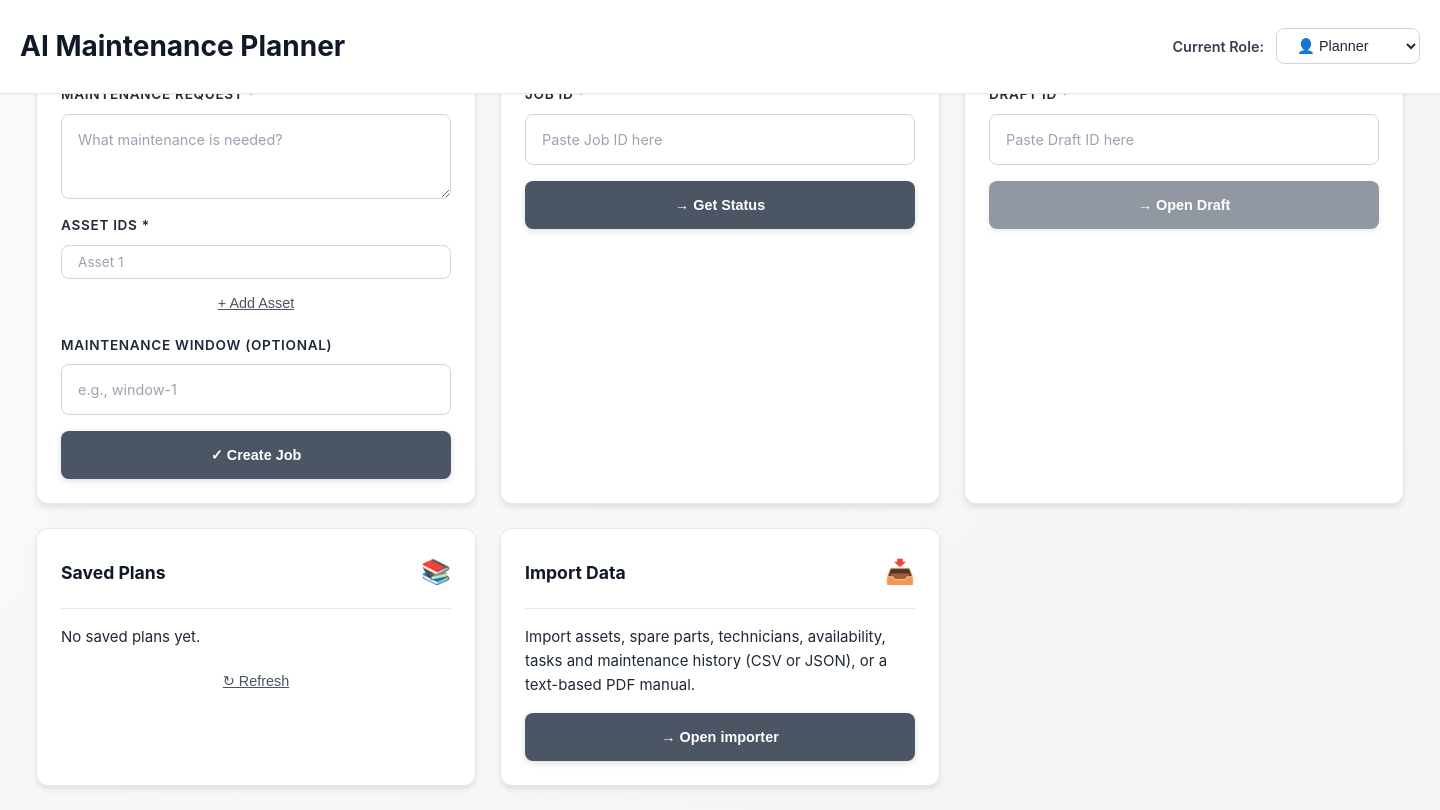
Scenario: App saved plans and actor role › shows when there are no saved plans and reports a failed load
(page scrolled)
Expected: the text "No saved plans yet." is shown, [61, 627, 200, 646]
Click the button "↻ Refresh": (256, 681) [61, 665, 451, 697]
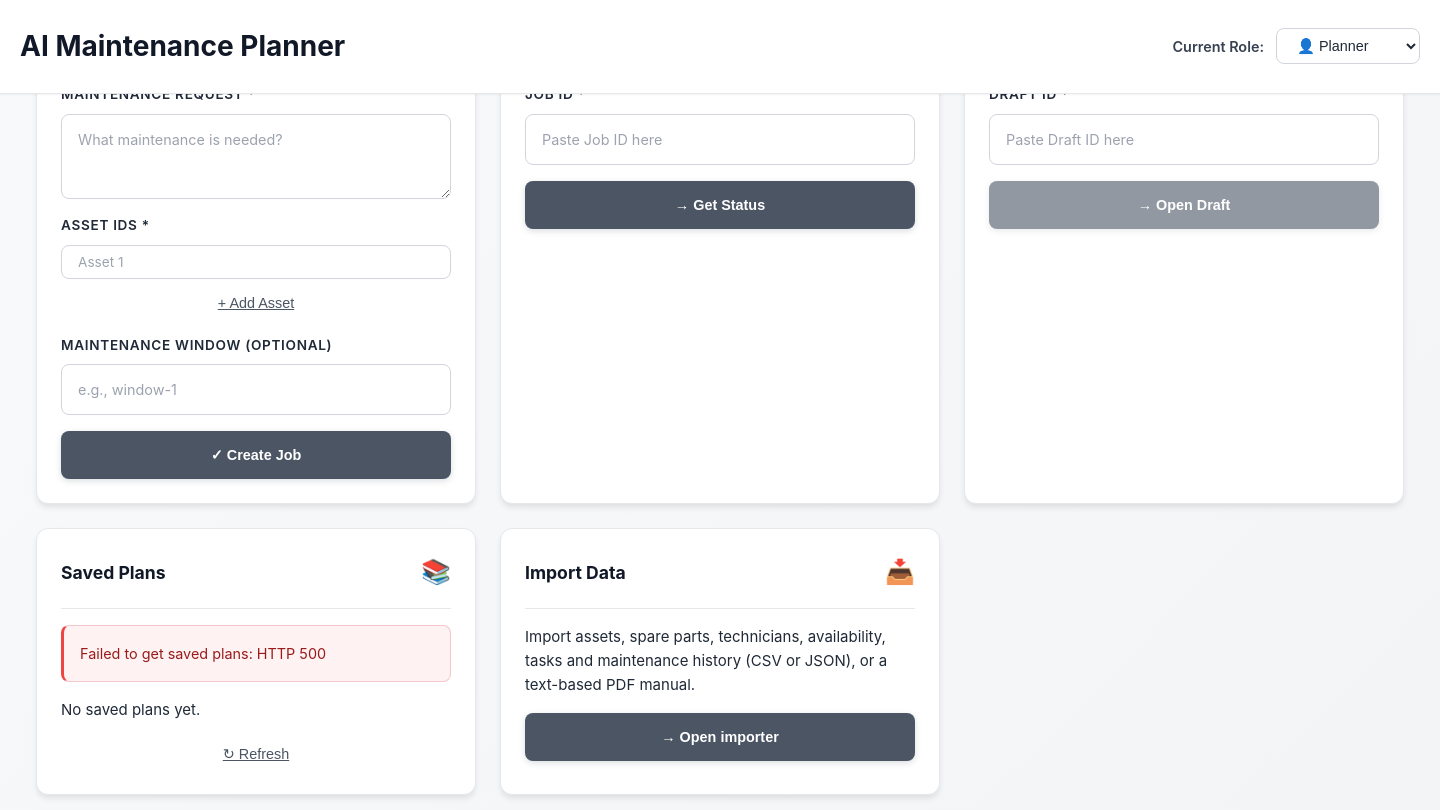
Expected: the text "Failed to get saved plans: HTTP 500" is shown, [61, 625, 451, 682]
